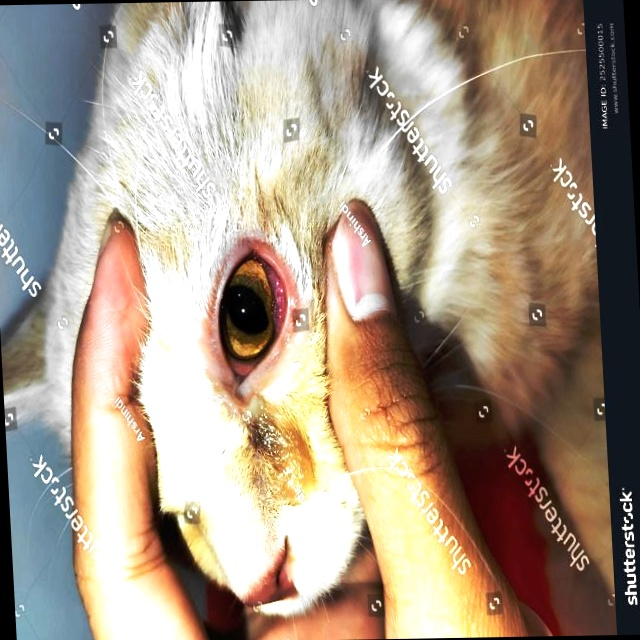eye_infection: (207, 248, 295, 389)
